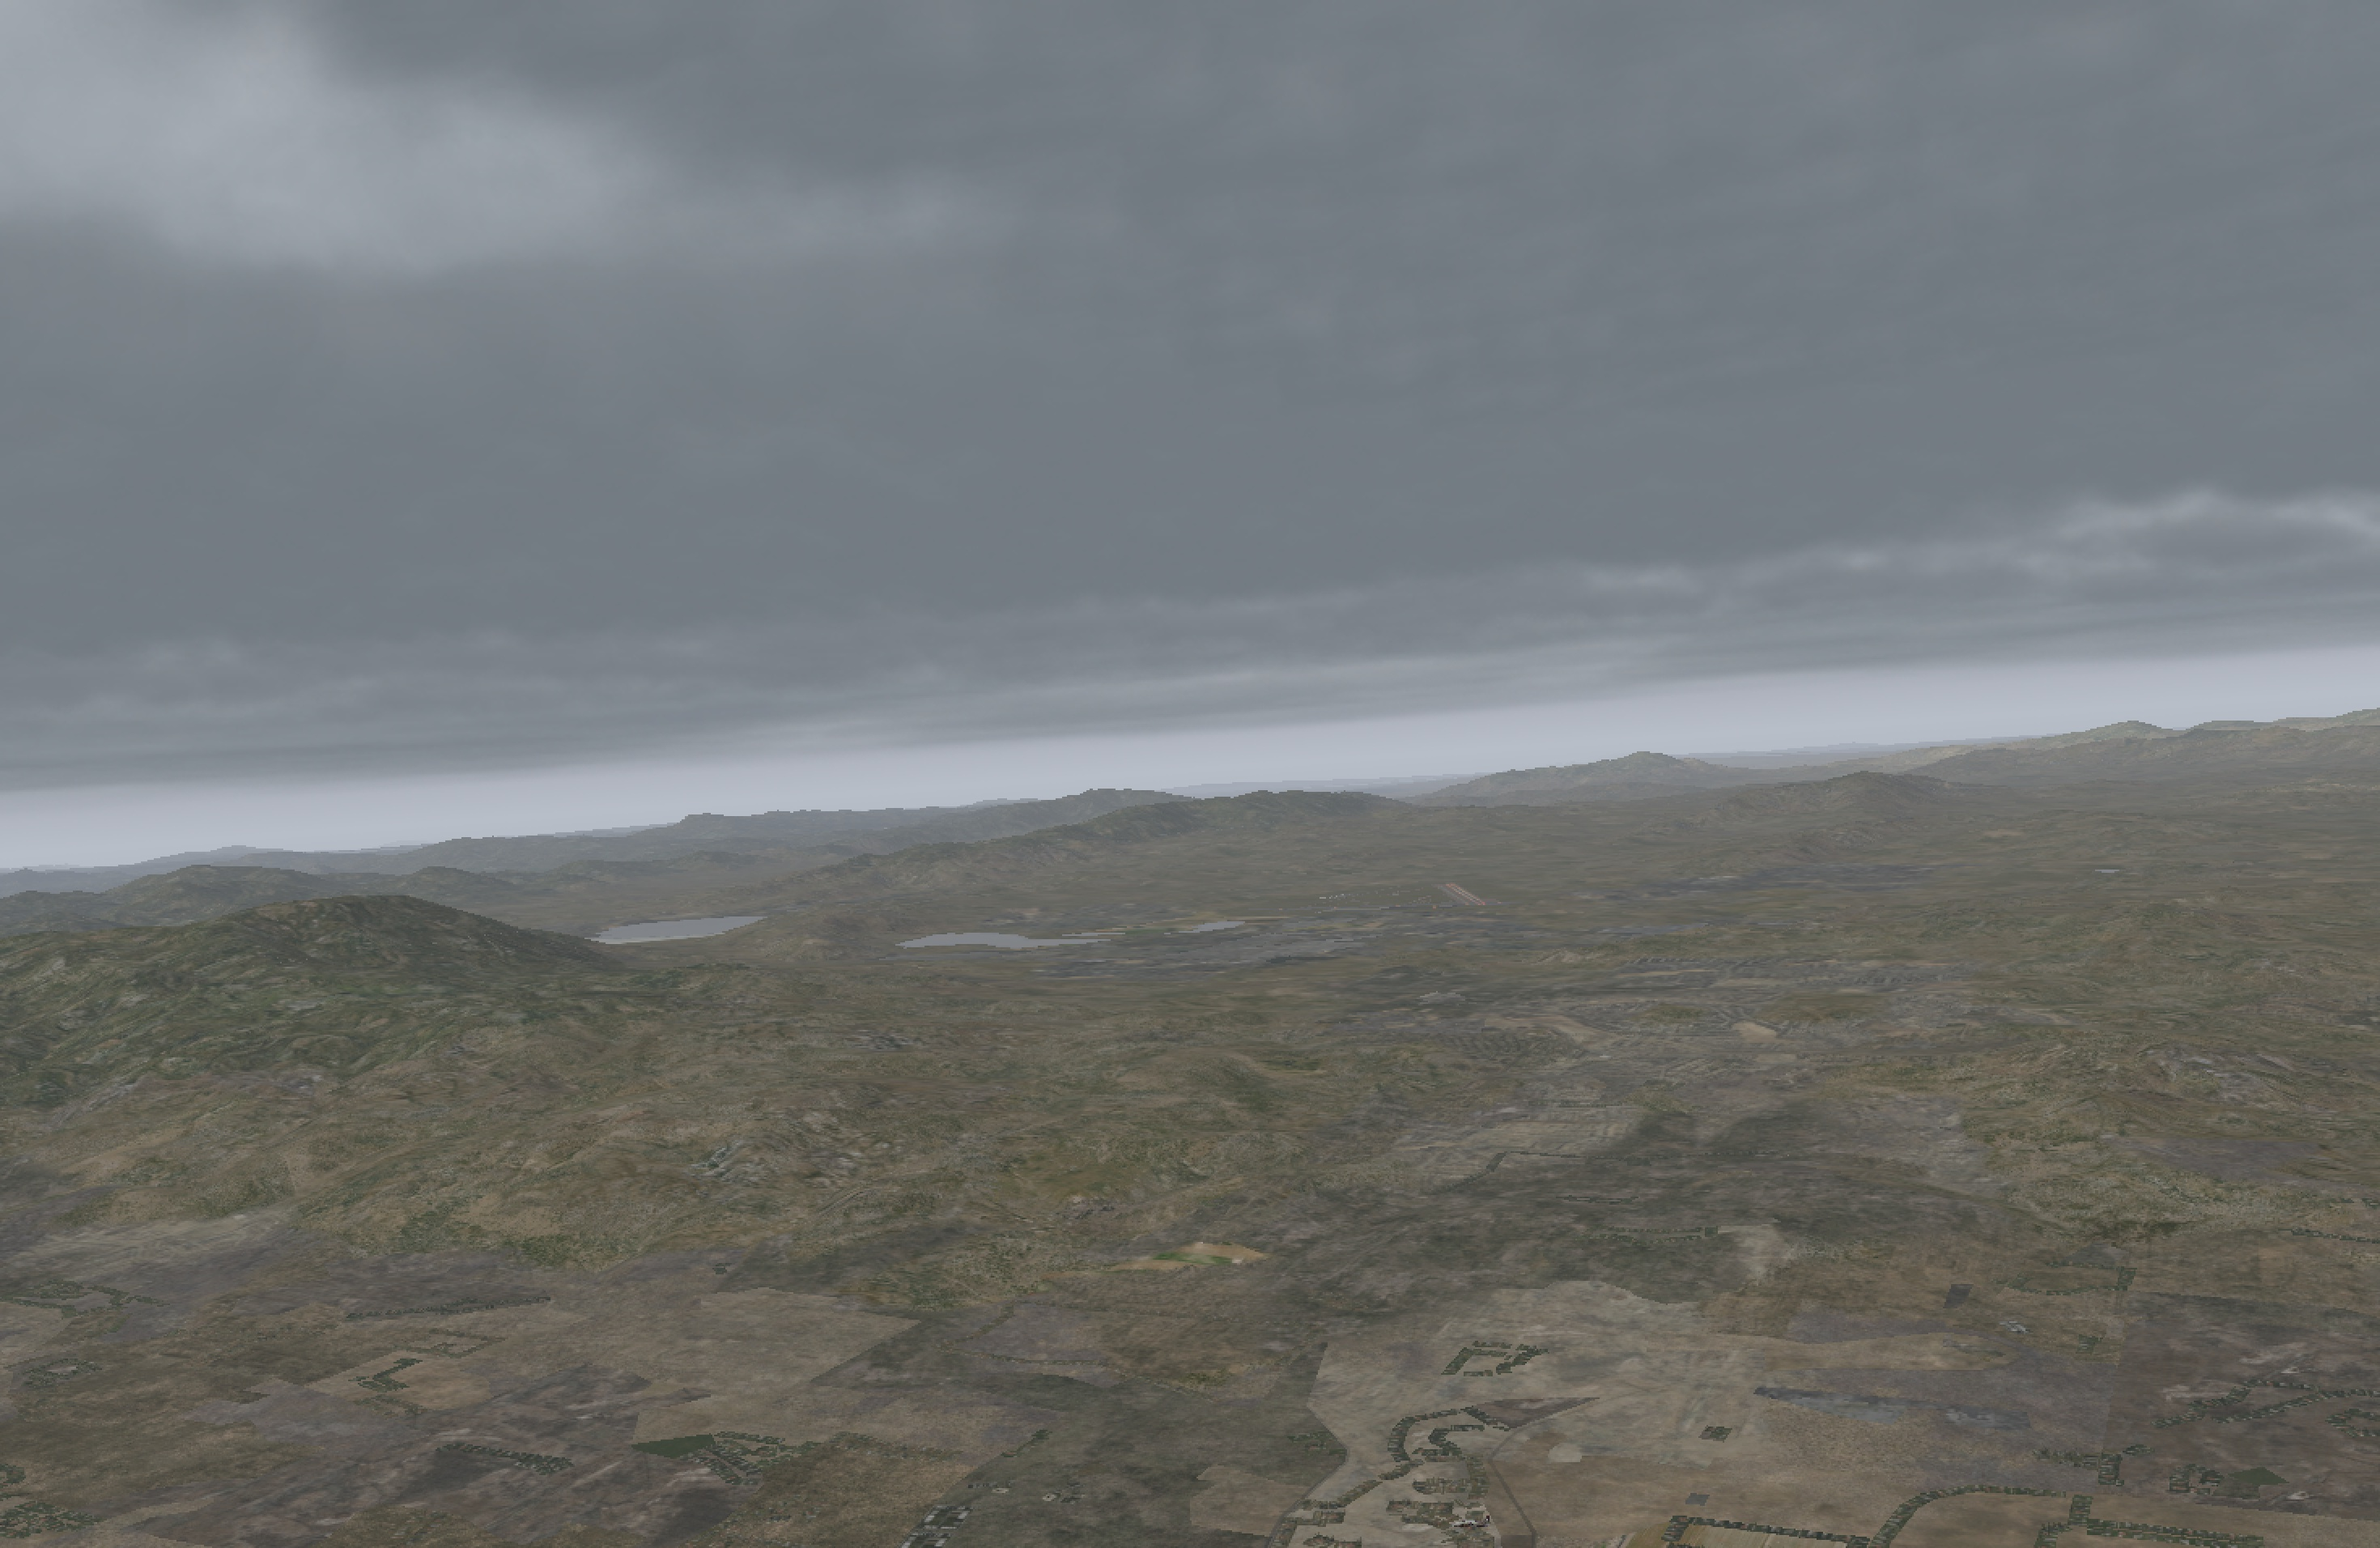aircraft: (1436, 1517, 1494, 1538)
